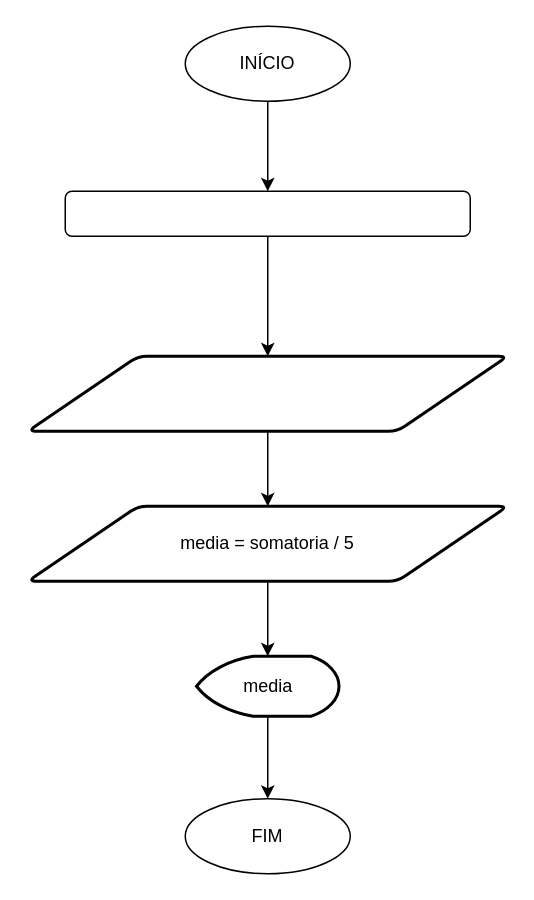
The diagram is 534 pixels wide and 900 high, and some of its shapes have lost their labels. Each missing label, with the centre of its shape:
"contador=0; contador<=4; contador++" belongs at pixel 267 213.
"posicao = var_Num[contador] somatoria += var_Num[contador]" belongs at pixel 267 393.
